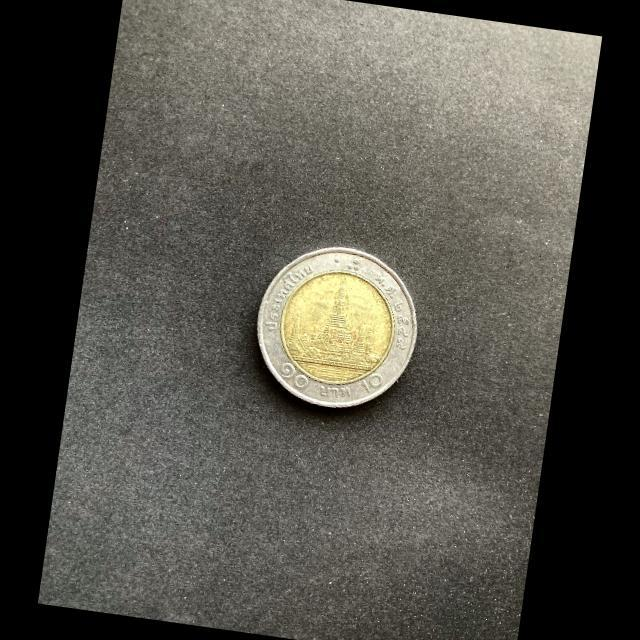10 Bath: (256, 247, 420, 412)
